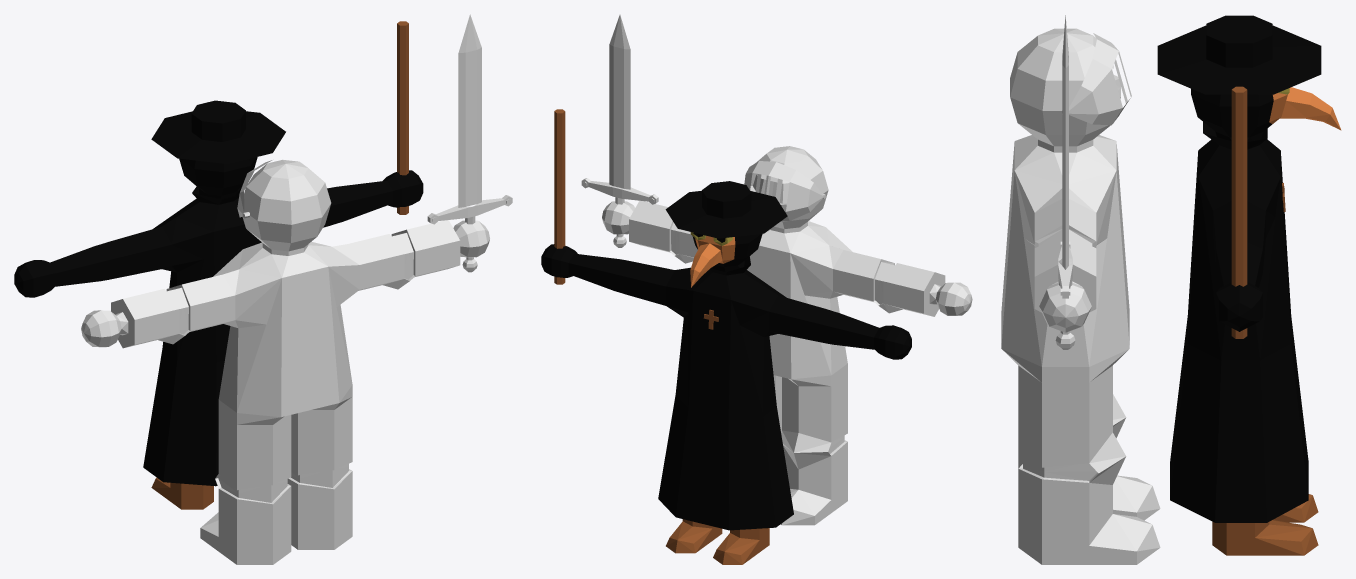
File: Healer.glb
3 renders of one model, left to right at view 1: azimuth 30°, elevation 25°; view 2: azimuth 150°, elevation 25°; view 3: azimuth 270°, elevation 25°, orthographic. The views are drawn at different scales.
Visible parts, largest first — view 1: Knight, Body, Robes, Baton; view 2: Knight, Body, Robes, Baton; view 3: Knight, Body, Robes, Baton.
Boxes of the visible parts, bbox=[...] form: Knight: bbox=[81, 14, 512, 564]; Body: bbox=[14, 100, 423, 509]; Robes: bbox=[143, 349, 224, 486]; Baton: bbox=[397, 21, 408, 214]; Knight: bbox=[581, 14, 972, 525]; Body: bbox=[541, 181, 911, 564]; Robes: bbox=[658, 395, 793, 530]; Baton: bbox=[554, 109, 565, 284]; Knight: bbox=[1001, 15, 1160, 564]; Body: bbox=[1157, 15, 1341, 555]; Robes: bbox=[1170, 318, 1308, 522]; Baton: bbox=[1231, 86, 1247, 338].
Size of the model in its own units: 2.29 by 2.48 by 1.21.
